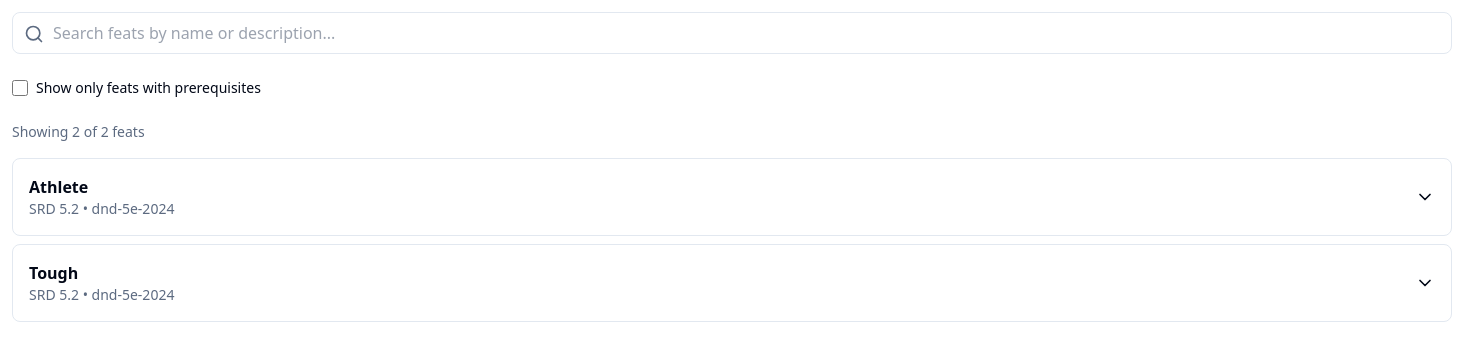
it: FeatBrowser › renders feats and supports search filtering
The image size is (1464, 339).
Expected: the text "Showing 2 of 2 feats" is shown, [12,122,145,141]
Step 1. Type "tough" into the field with placeholder "Search feats by name or description..." → (732, 33), box [12,12,1452,54]
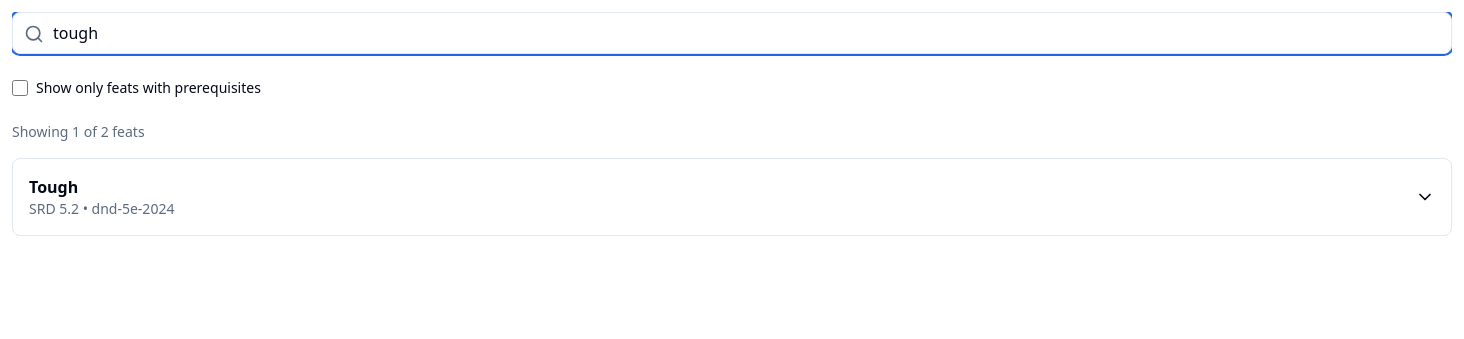
Expected: the heading "Tough" is shown, [29,175,78,199]
Expected: the text "Showing 1 of 2 feats" is shown, [12,122,145,141]
Expected: the button "Athlete" is gone
